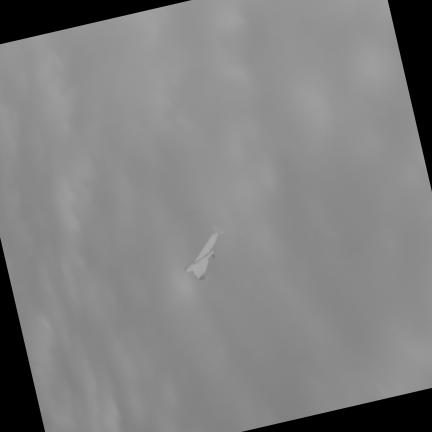Shahed: (185, 226, 224, 280)
